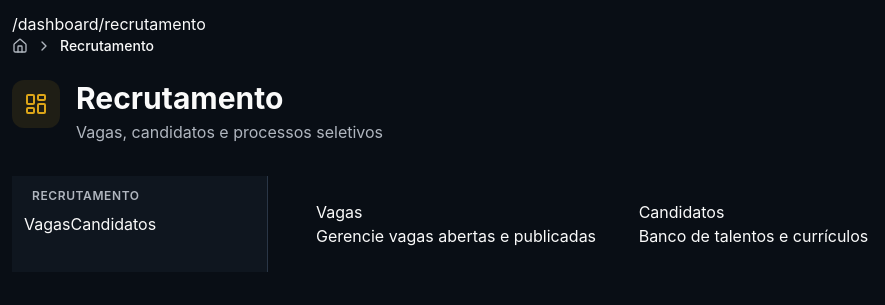
Test case: ModuleRouter navigation › changes module feature routes without a document reload
The width and height of the screenshot is (885, 305).
Click the link "Vagas" at coordinates (47, 224), box [24, 214, 70, 234]
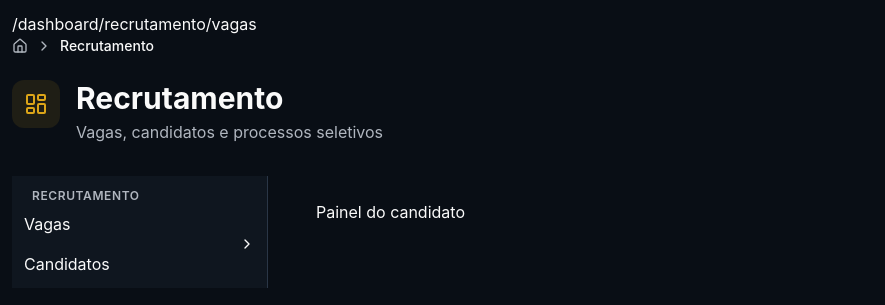
expect the text with test id "current-location" reads "/dashboard/recrutamento/vagas": met, box [12, 14, 257, 34]
